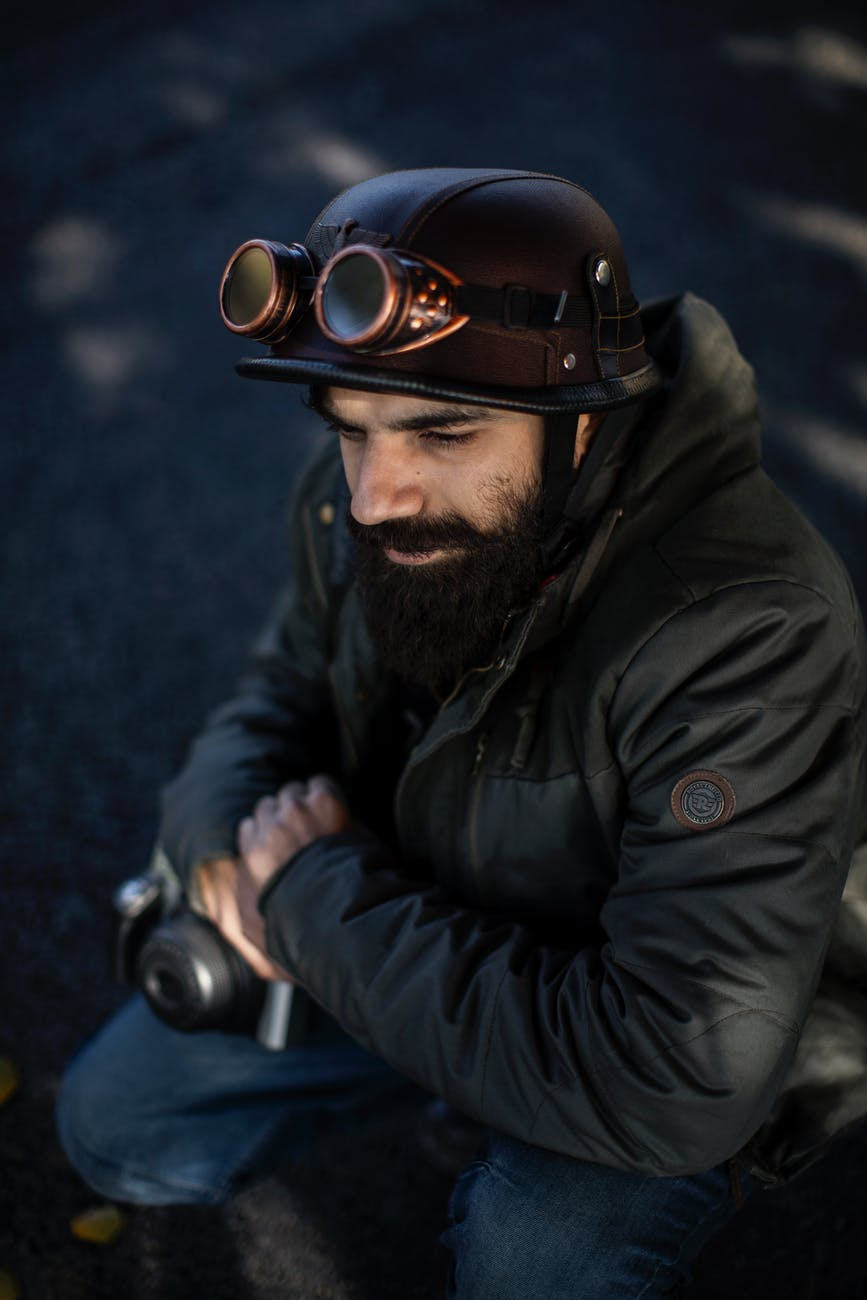helmet: (252, 161, 636, 423)
